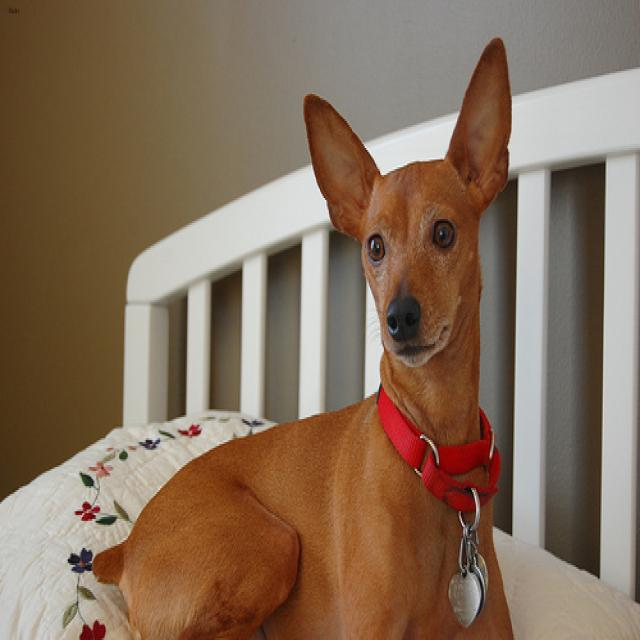dog-miniature_pinscher: (81, 29, 521, 636)
